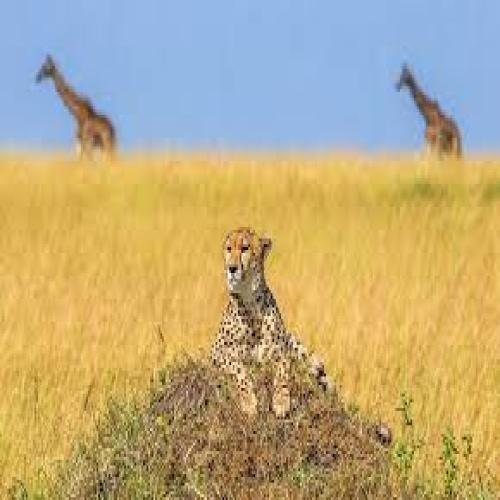cheetah-endangered: (208, 228, 328, 420)
